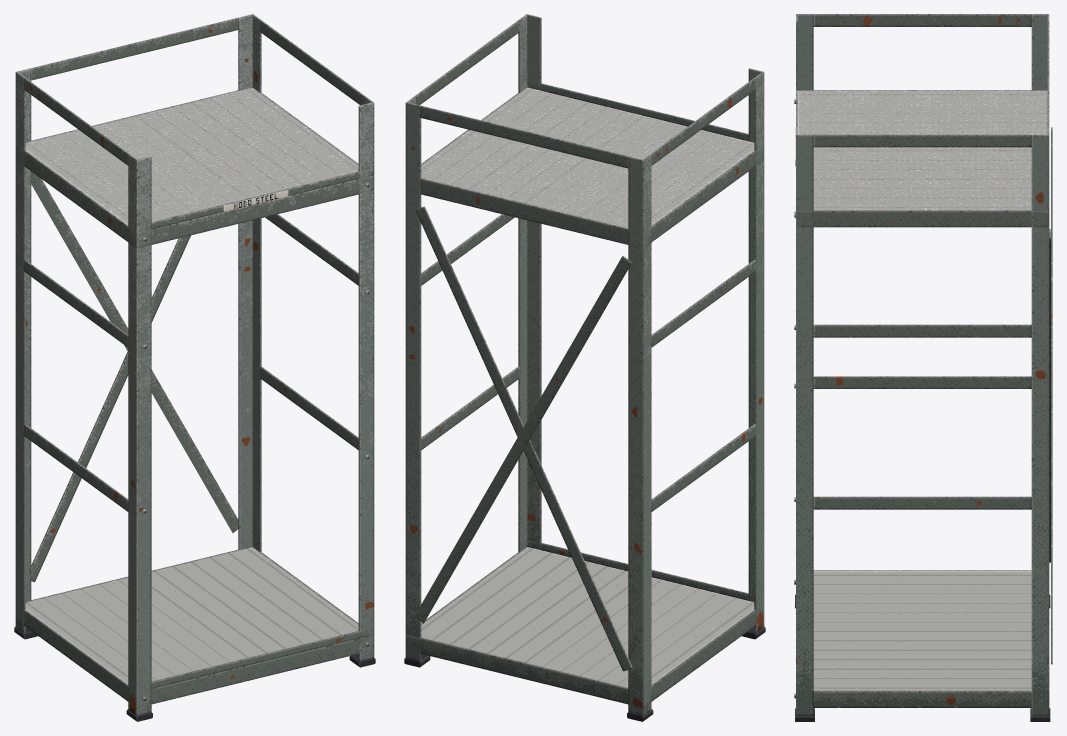
Rendered from stack_rack.glb.
The picture shows the model from 3 angles, left to right: view 1: azimuth 30°, elevation 25°; view 2: azimuth 150°, elevation 25°; view 3: azimuth 270°, elevation 25°; orthographic projection. The views are drawn at different scales.
Parts seen in each view (by area): view 1: body; view 2: body; view 3: body.
Part boxes in pixels (x1=…): body: x1=14, y1=14, x2=375, y2=721; body: x1=404, y1=14, x2=765, y2=721; body: x1=794, y1=14, x2=1052, y2=721.
Size of the model in its own units: 0.518 by 1.16 by 0.4629.
Materials: 3 (3 with a texture image).
